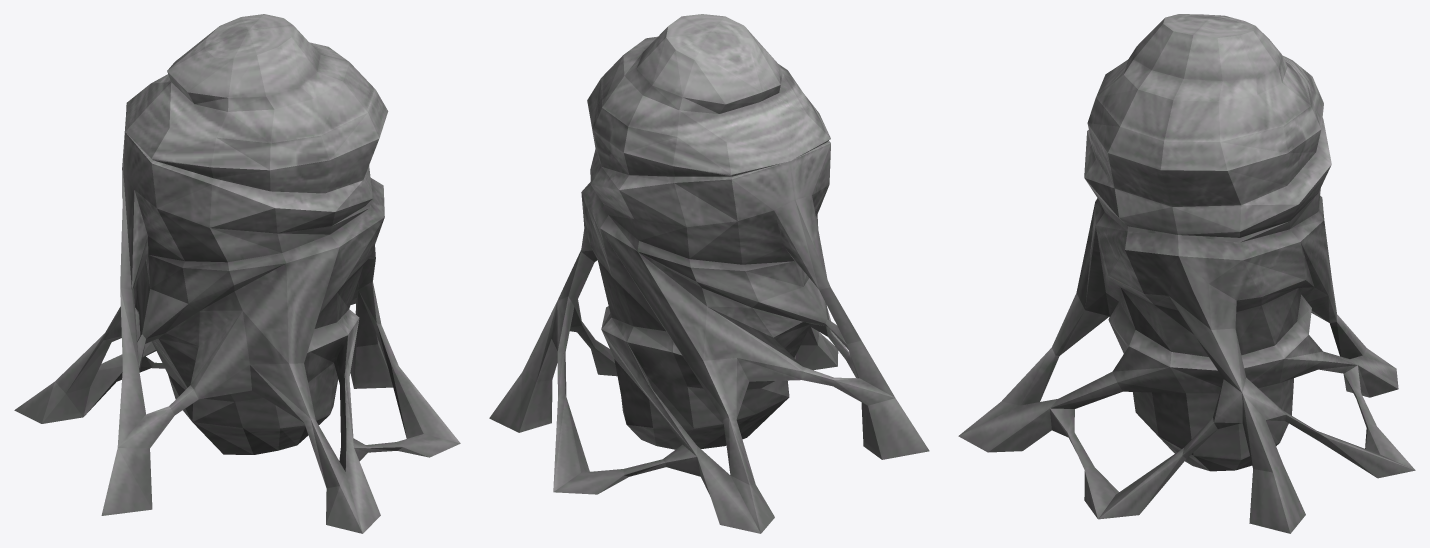
The model's file is Web Cocoon.obj.
3 renders of one model, left to right at view 1: azimuth 30°, elevation 25°; view 2: azimuth 150°, elevation 25°; view 3: azimuth 270°, elevation 25°, orthographic. The views are drawn at different scales.
Visible parts, largest first — view 1: MOB_0374_BM_DO_WebCoccon; view 2: MOB_0374_BM_DO_WebCoccon; view 3: MOB_0374_BM_DO_WebCoccon.
Boxes of the visible parts, bbox=[...] form: MOB_0374_BM_DO_WebCoccon: bbox=[14, 14, 460, 533]; MOB_0374_BM_DO_WebCoccon: bbox=[489, 14, 929, 533]; MOB_0374_BM_DO_WebCoccon: bbox=[958, 14, 1415, 533].
Bounding box in the file's own units: 171 × 181 × 177.
1 material, 1 textured.
